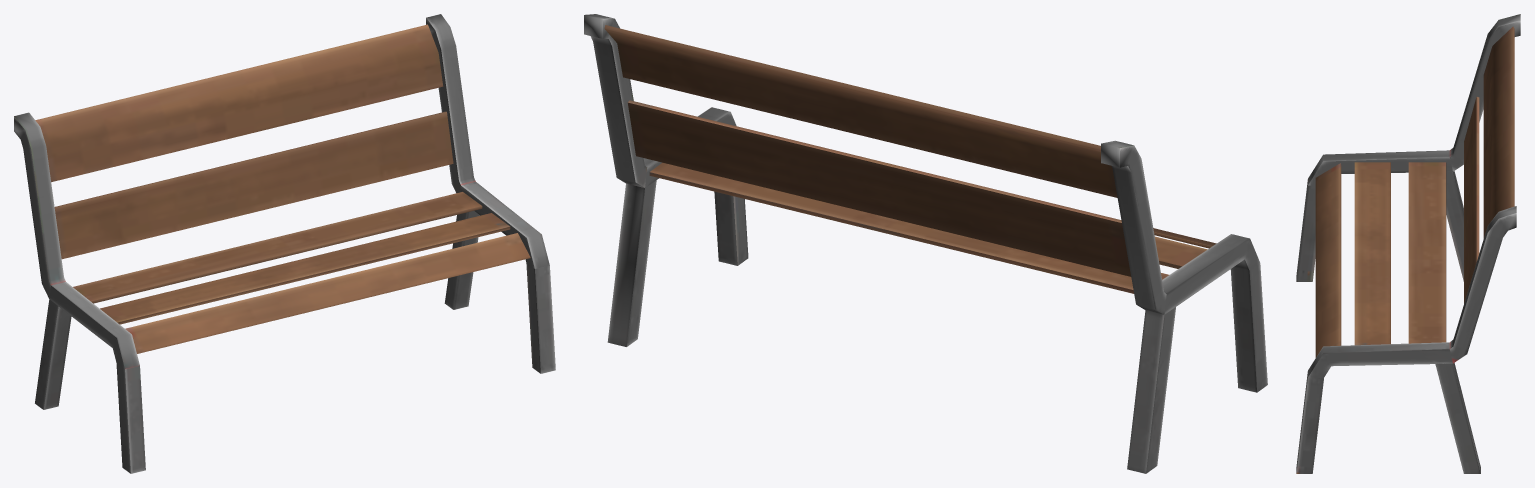
File: Bench.fbx
3 renders of one model, left to right at view 1: azimuth 30°, elevation 25°; view 2: azimuth 150°, elevation 25°; view 3: azimuth 270°, elevation 25°, orthographic. The views are drawn at different scales.
Parts seen in each view (by area): view 1: SM_Wooden_Bench; view 2: SM_Wooden_Bench; view 3: SM_Wooden_Bench.
Part boxes in pixels (left/top/right/bottom): SM_Wooden_Bench: left=14, top=14, right=555, bottom=473; SM_Wooden_Bench: left=584, top=14, right=1267, bottom=473; SM_Wooden_Bench: left=1296, top=14, right=1520, bottom=473.
Size of the model in its own units: 1.79 by 1.1 by 0.8526.
